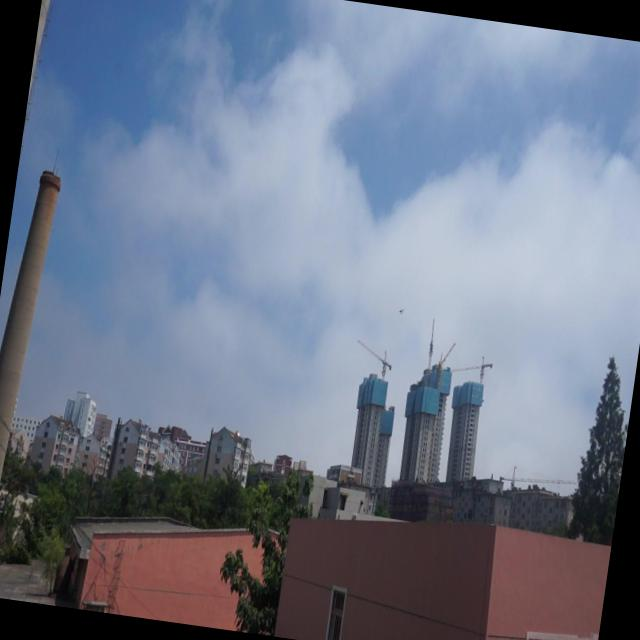drone: (396, 304, 406, 318)
